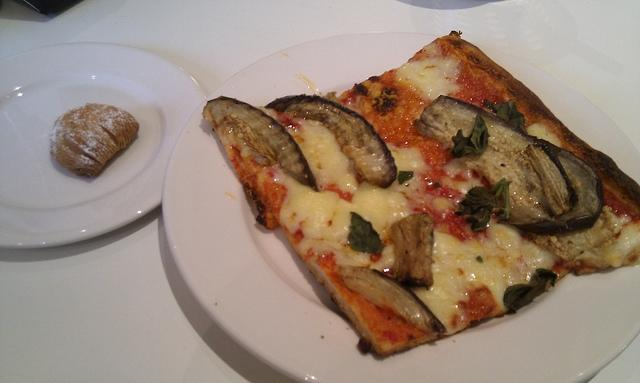eggplant: (412, 94, 604, 232), (264, 94, 398, 188), (202, 95, 320, 192), (333, 264, 448, 334), (389, 213, 435, 287)
